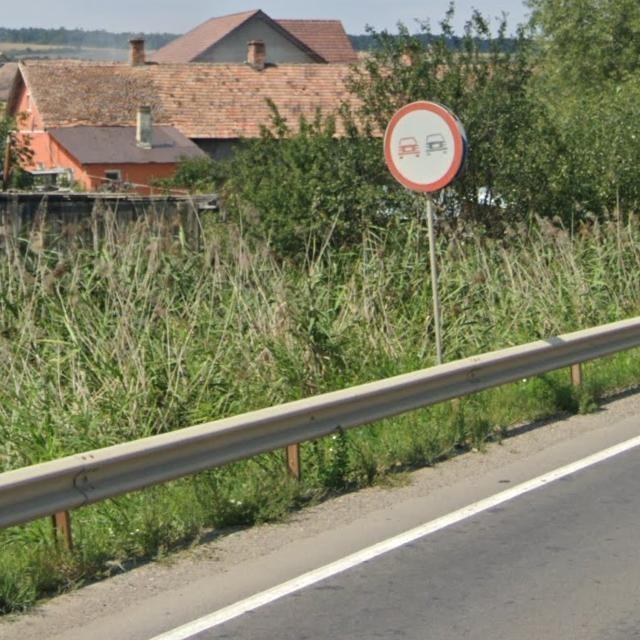forb_overtake: (382, 98, 469, 196)
